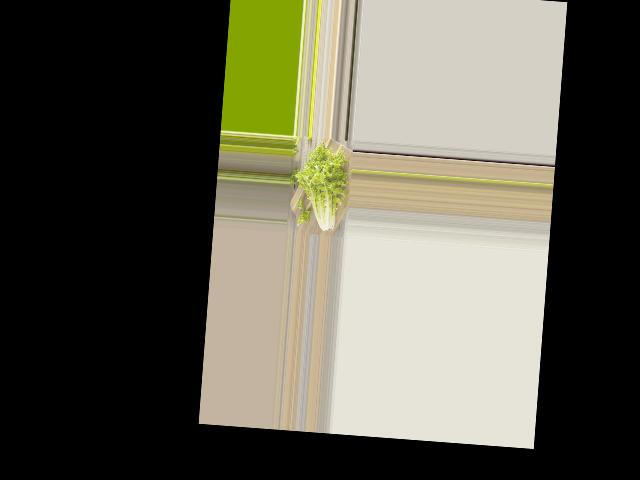lettuce: (292, 144, 350, 237)
